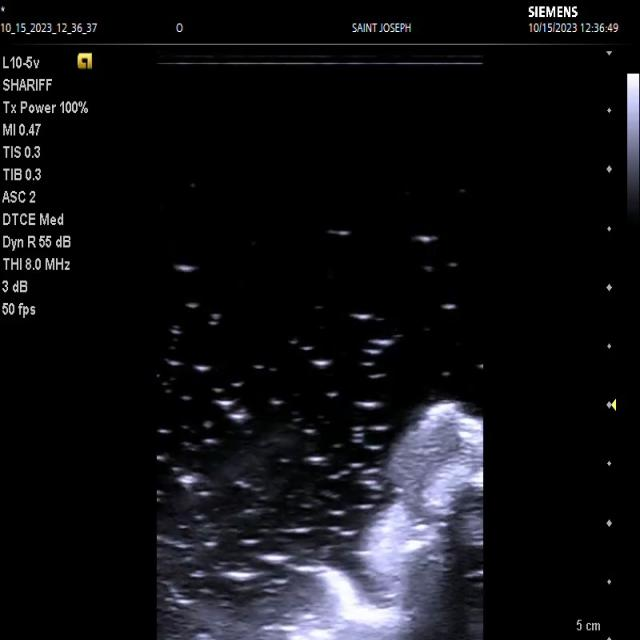tissue: (302, 401, 483, 640)
